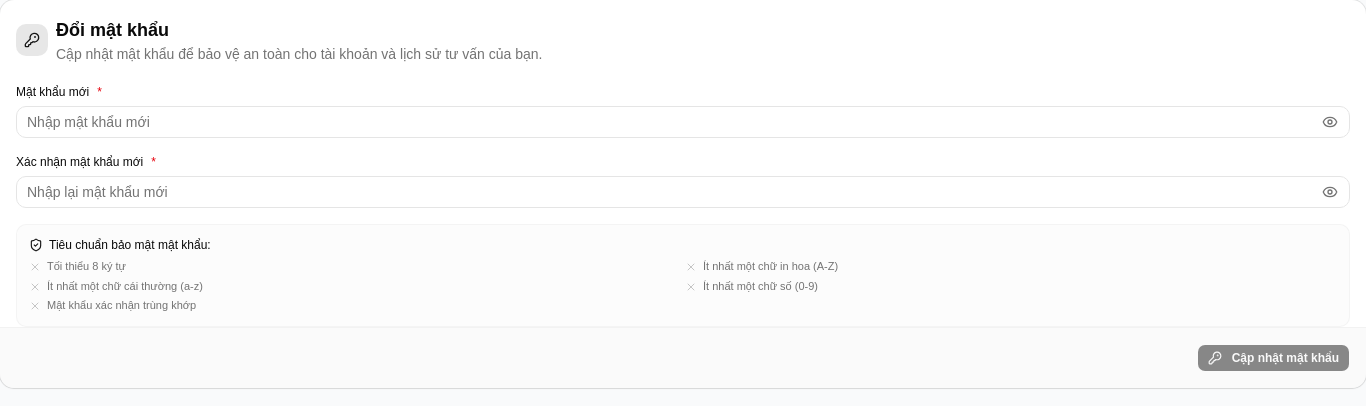
it: User Feature › ChangePasswordForm component › validates password requirements live
The width and height of the screenshot is (1366, 406).
Later steps or results of the test are not shown.
Check: the button "Cập nhật mật khẩu" is disabled, box [1197,344,1350,372]
Note: Typing valid matching passwords
Type "StrongPass123!" into the password field with placeholder "Nhập mật khẩu mới".
click(683, 122); type("StrongPass123!")  # box [16,106,1350,138]
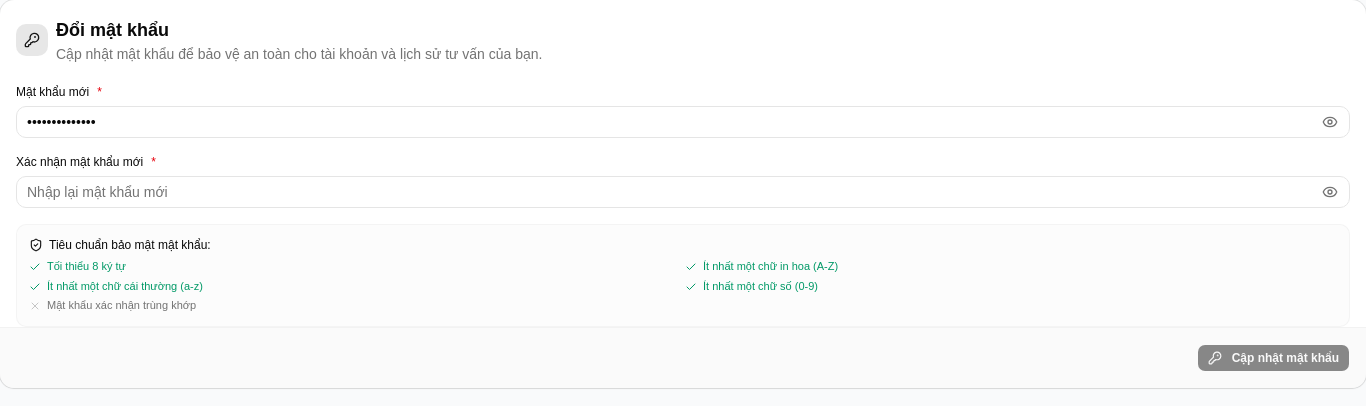
Type "StrongPass123!" into the password field with placeholder "Nhập lại mật khẩu mới".
click(683, 192); type("StrongPass123!")  # box [16,176,1350,208]
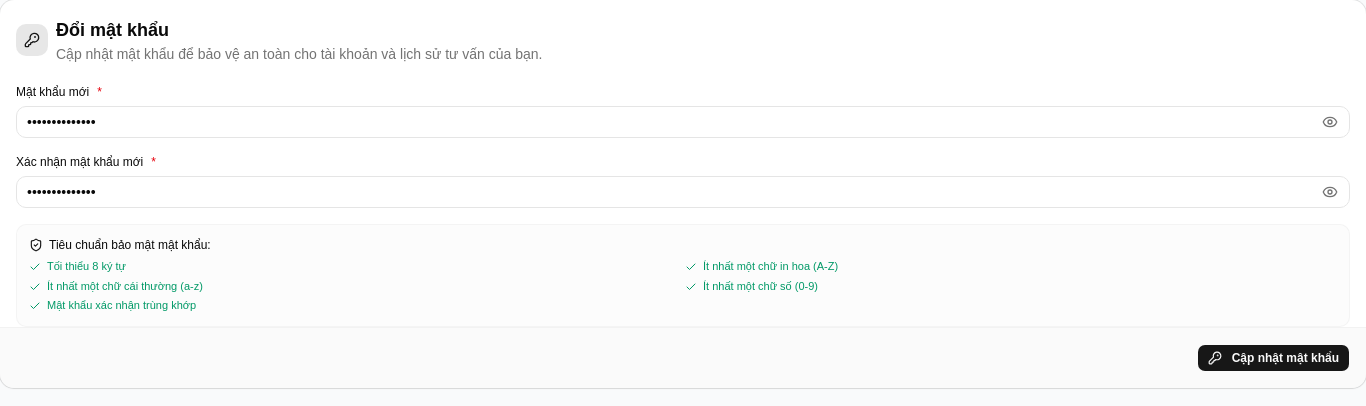
Check: the button "Cập nhật mật khẩu" is enabled, box [1197,344,1350,372]
